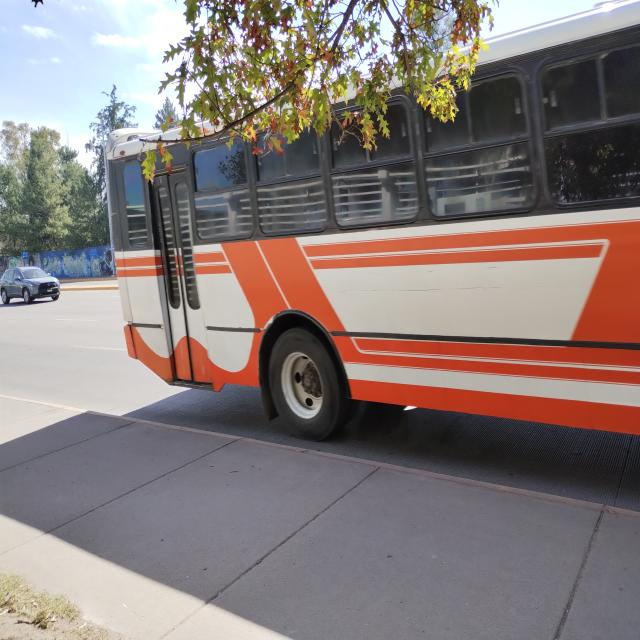Auto: (0, 262, 60, 306)
Autobus: (102, 4, 640, 446)
